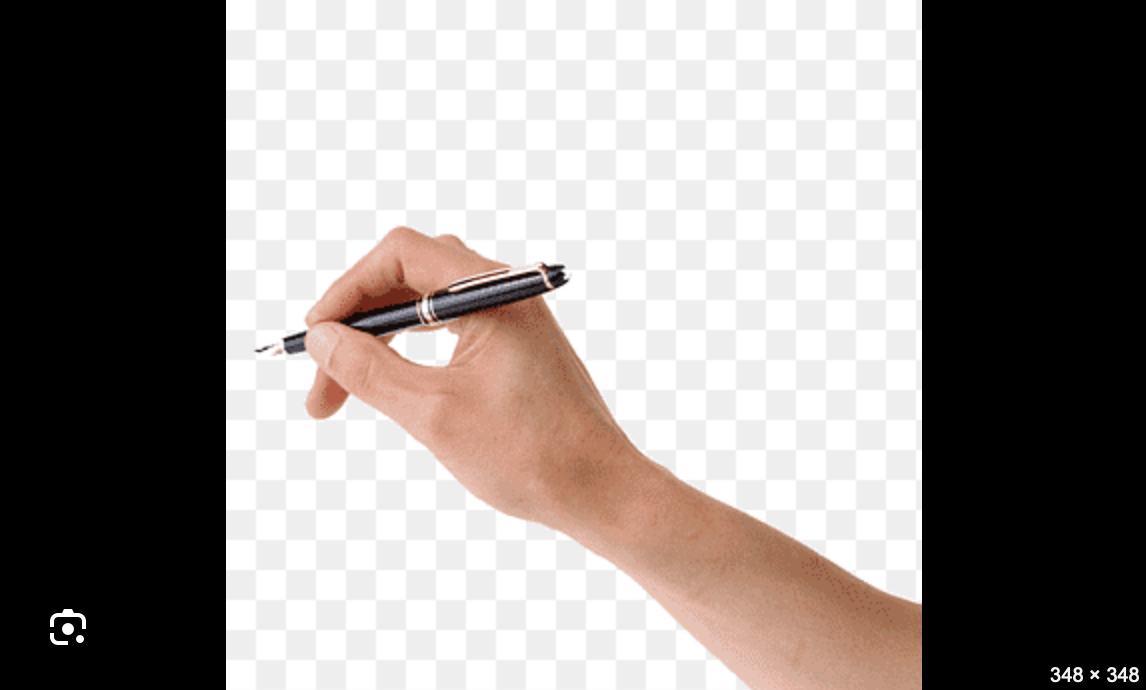pen: (244, 263, 570, 358)
